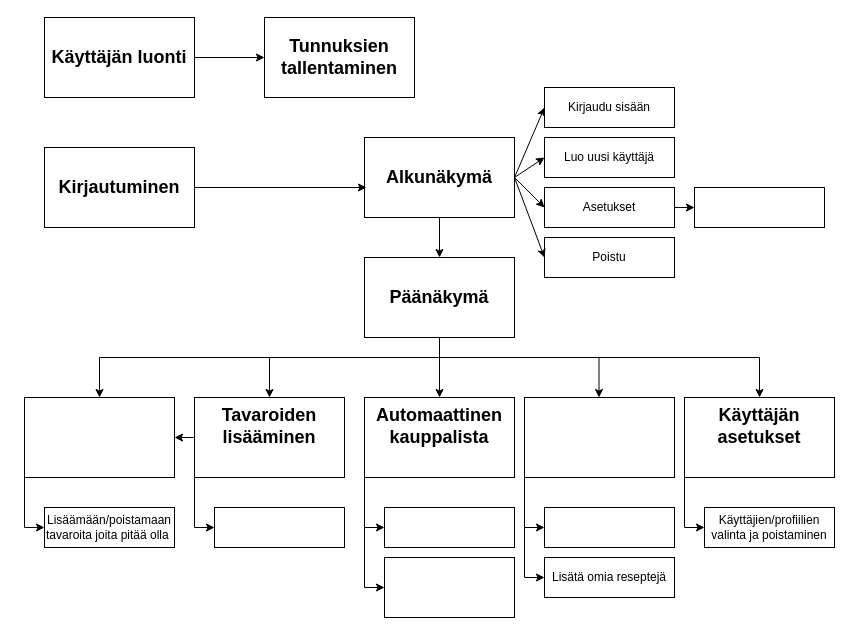
The diagram is 852 pixels wide and 635 high, and some of its shapes have lost their labels. Each missing label, with the centre of its shape:
Inventaario lista: point 99,437
Kaupassa käyty nappi (lisää asia joita kauppalistassa on inventaarioon): point 449,587
Lisäämään/poistamaan tavaroita vain tälle listalle: point 449,527
Poistaa reseptin asiat inventaariosta: point 609,527
Päivämäärien asettaminen: point 279,527
Reseptit: point 599,437
Tyyli, kieli: point 759,207
